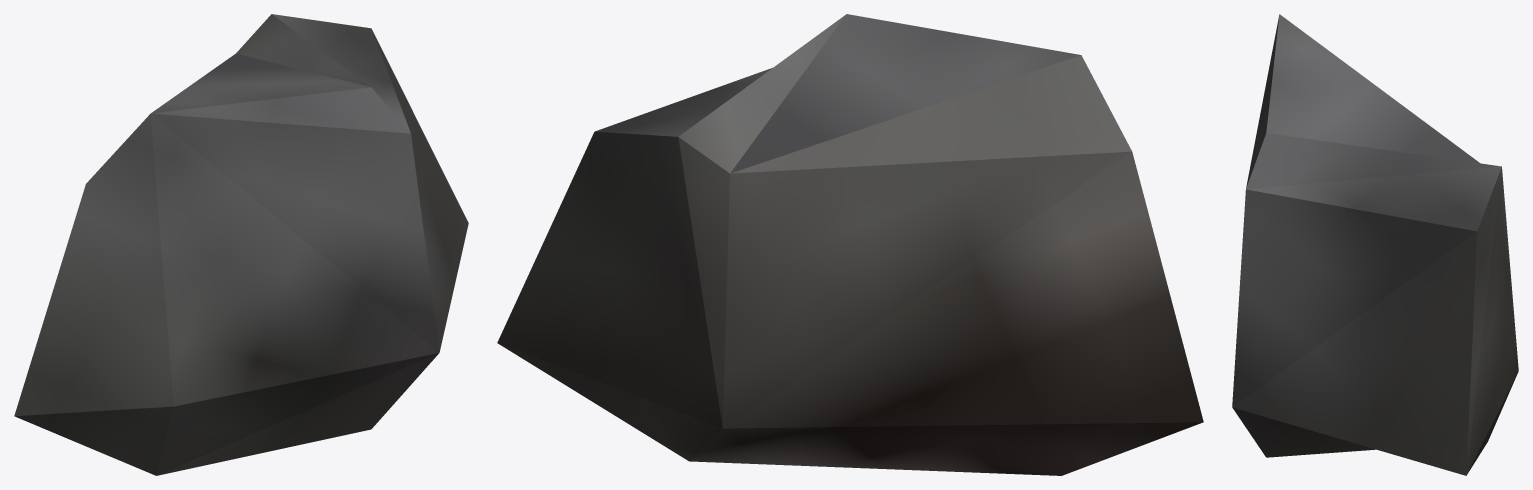
3 views of the same model, side by side, from view 1: azimuth 30°, elevation 25°; view 2: azimuth 150°, elevation 25°; view 3: azimuth 270°, elevation 25° (orthographic). The views are drawn at different scales.
Bounding box in the file's own units: 0.0355 × 0.0233 × 0.0172.
1 material, 1 textured.
